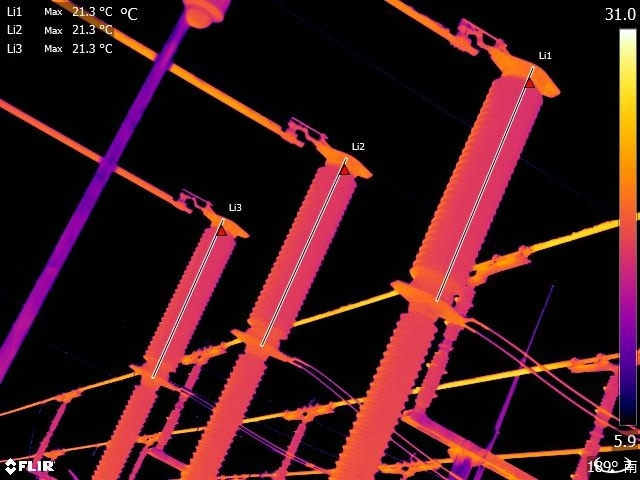circuit breaker: (328, 34, 576, 480), (176, 111, 406, 480), (81, 194, 244, 480)
post insulator: (413, 276, 479, 411), (567, 372, 619, 480), (153, 358, 204, 455), (27, 397, 71, 470), (273, 423, 308, 480)
